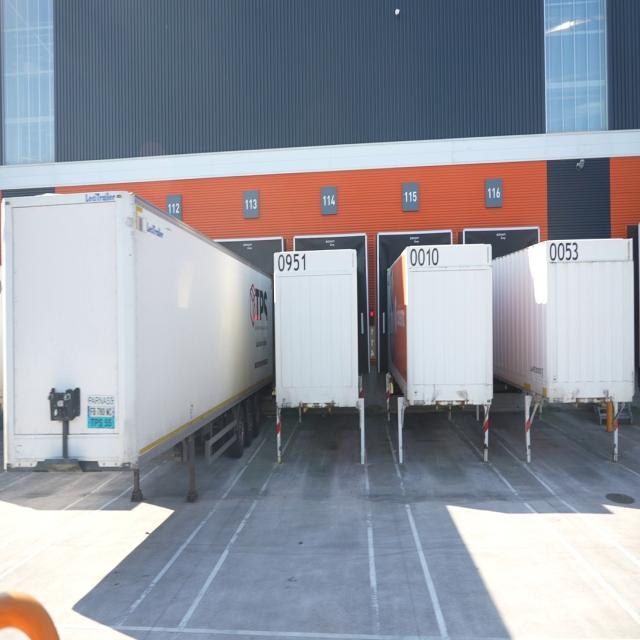Code: (547, 236, 581, 265), (407, 246, 442, 270), (274, 252, 310, 274)
